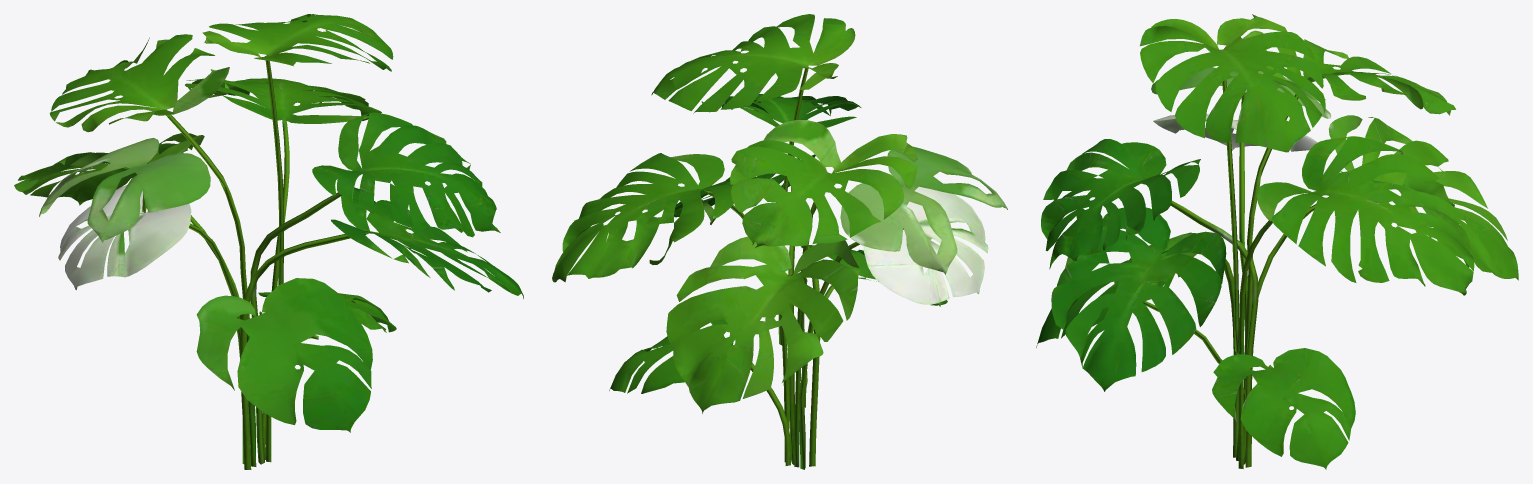
Rendered from monsteraplant_1.lite.glb.
The picture shows the model from 3 angles, left to right: view 1: azimuth 30°, elevation 25°; view 2: azimuth 150°, elevation 25°; view 3: azimuth 270°, elevation 25°; orthographic projection. The views are drawn at different scales.
Parts seen in each view (by area): view 1: model; view 2: model; view 3: model.
Part boxes in pixels (box(x1,y1,x2,y2)): model: box(14, 14, 523, 469); model: box(552, 14, 1007, 469); model: box(1036, 14, 1518, 469).
Bounding box in the file's own units: 0.9253 × 0.9897 × 0.9995.
2 materials, 2 textured.
